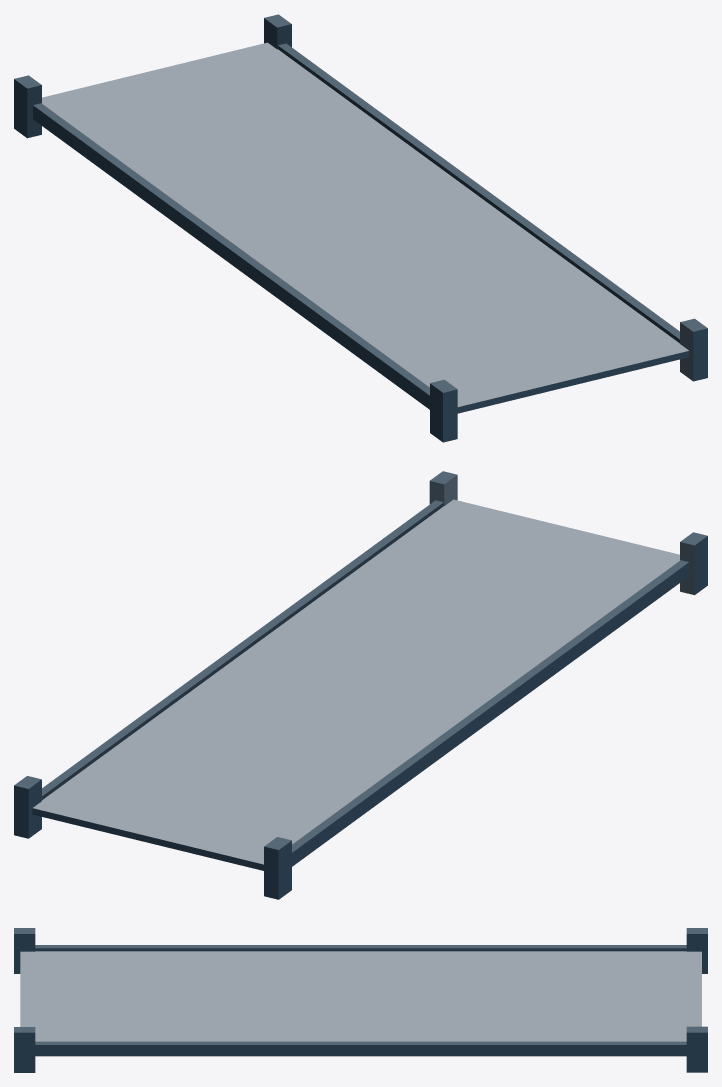
Rendered from rblue.fbx.
3 renders of one model, top to bottom at view 1: azimuth 30°, elevation 25°; view 2: azimuth 150°, elevation 25°; view 3: azimuth 270°, elevation 25°, orthographic. The views are drawn at different scales.
Parts seen in each view (by area): view 1: SM_Rack_100; view 2: SM_Rack_100; view 3: SM_Rack_100.
Boxes of the visible parts, bbox=[...] form: SM_Rack_100: bbox=[14, 14, 707, 442]; SM_Rack_100: bbox=[14, 471, 707, 899]; SM_Rack_100: bbox=[14, 928, 707, 1072].
Bounding box in the file's own units: 112 × 20 × 313.
